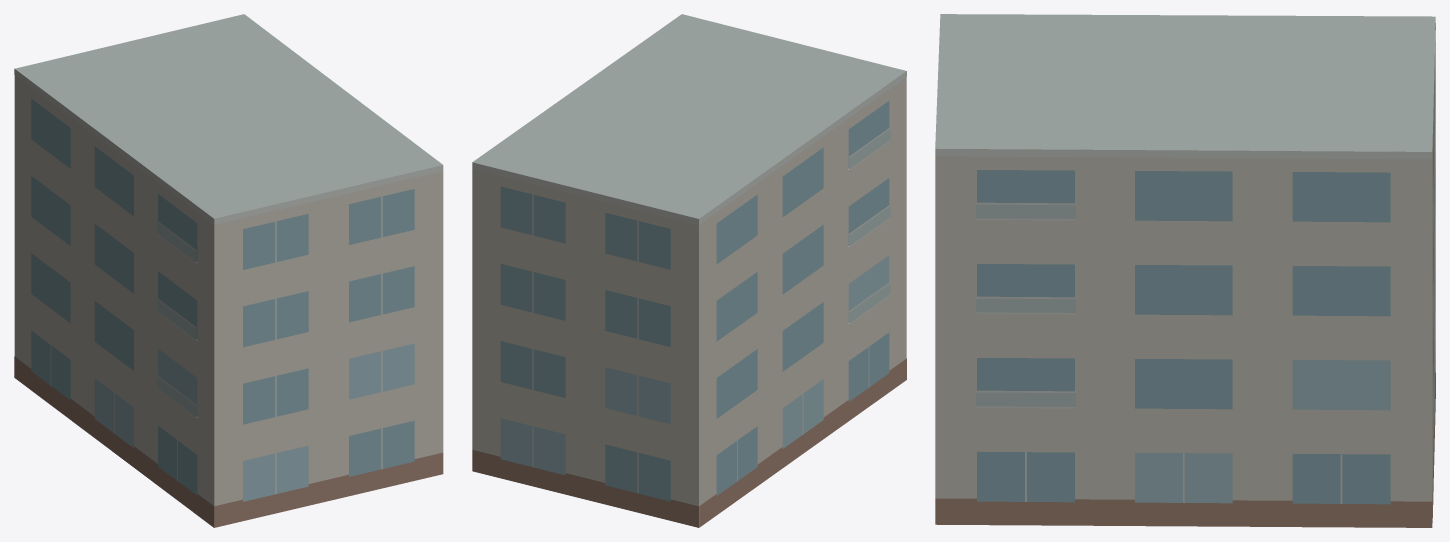
The model's file is survey-upis-32932951.glb.
3 renders of one model, left to right at view 1: azimuth 30°, elevation 25°; view 2: azimuth 150°, elevation 25°; view 3: azimuth 270°, elevation 25°, orthographic. The views are drawn at different scales.
Parts seen in each view (by area): view 1: survey-upis-32932951.tmp; view 2: survey-upis-32932951.tmp; view 3: survey-upis-32932951.tmp.
Boxes of the visible parts, <box> form: survey-upis-32932951.tmp: <box>14,14,443,527</box>; survey-upis-32932951.tmp: <box>472,14,906,527</box>; survey-upis-32932951.tmp: <box>935,14,1435,527</box>.
Size of the model in its own units: 9.63 by 12.2 by 14.74.
